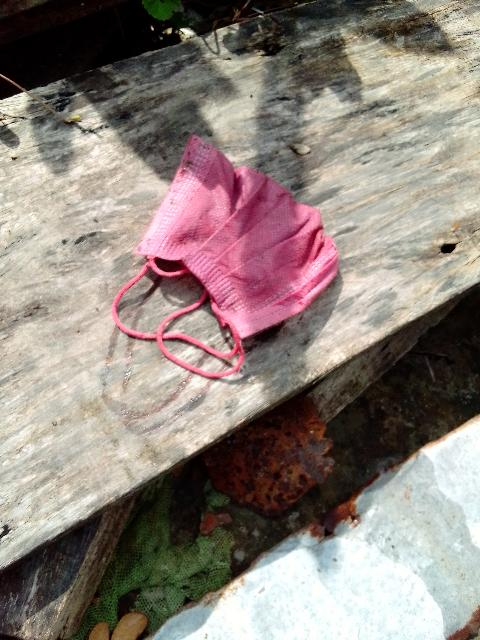mask: (142, 154, 334, 341)
